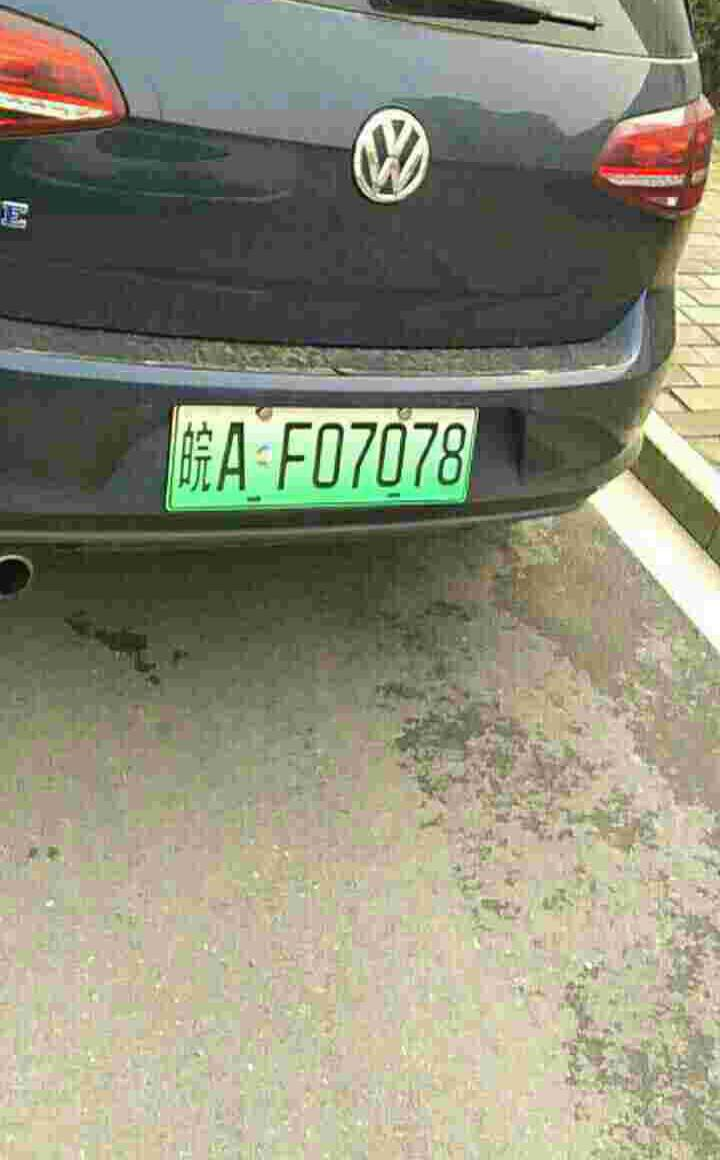car_id: (167, 407, 473, 506)
